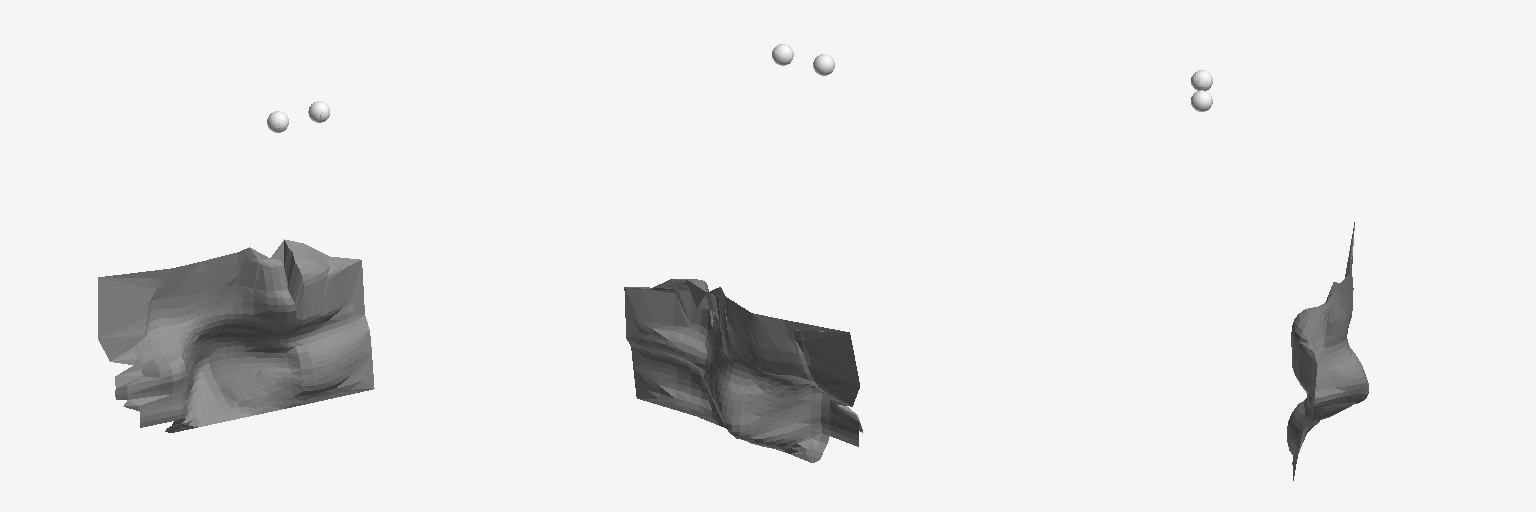
Rendered from backsideofliver.obj.
The picture shows the model from 3 angles: view 1: azimuth 30°, elevation 25°; view 2: azimuth 150°, elevation 25°; view 3: azimuth 270°, elevation 25°; orthographic projection.
Parts seen in each view (by area): view 1: Plane01; view 2: Plane01; view 3: Plane01.
Boxes of the visible parts, x1=… form: Plane01: x1=98, y1=239, x2=374, y2=432; Plane01: x1=624, y1=279, x2=862, y2=462; Plane01: x1=1287, y1=222, x2=1368, y2=480.
Bounding box in the file's own units: 16.27 × 21.88 × 10.04.